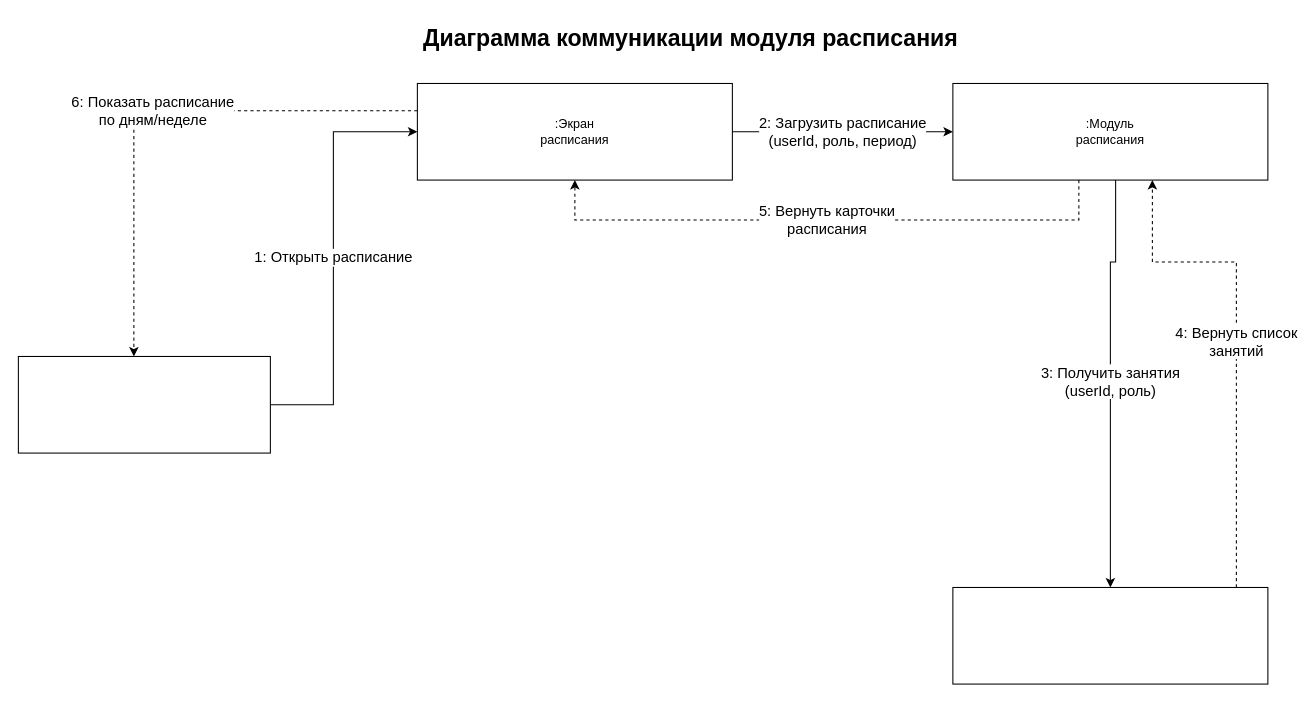
Image size: 1316x702. Some labels were removed from this diagram. Here are the shapes that lost their labels. From the top down, the centre of each, then its label:
(x=143, y=404): :Пользователь
(x=1110, y=635): :Локальное хранилище
